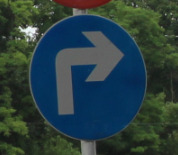right_turn: (29, 14, 146, 140)
